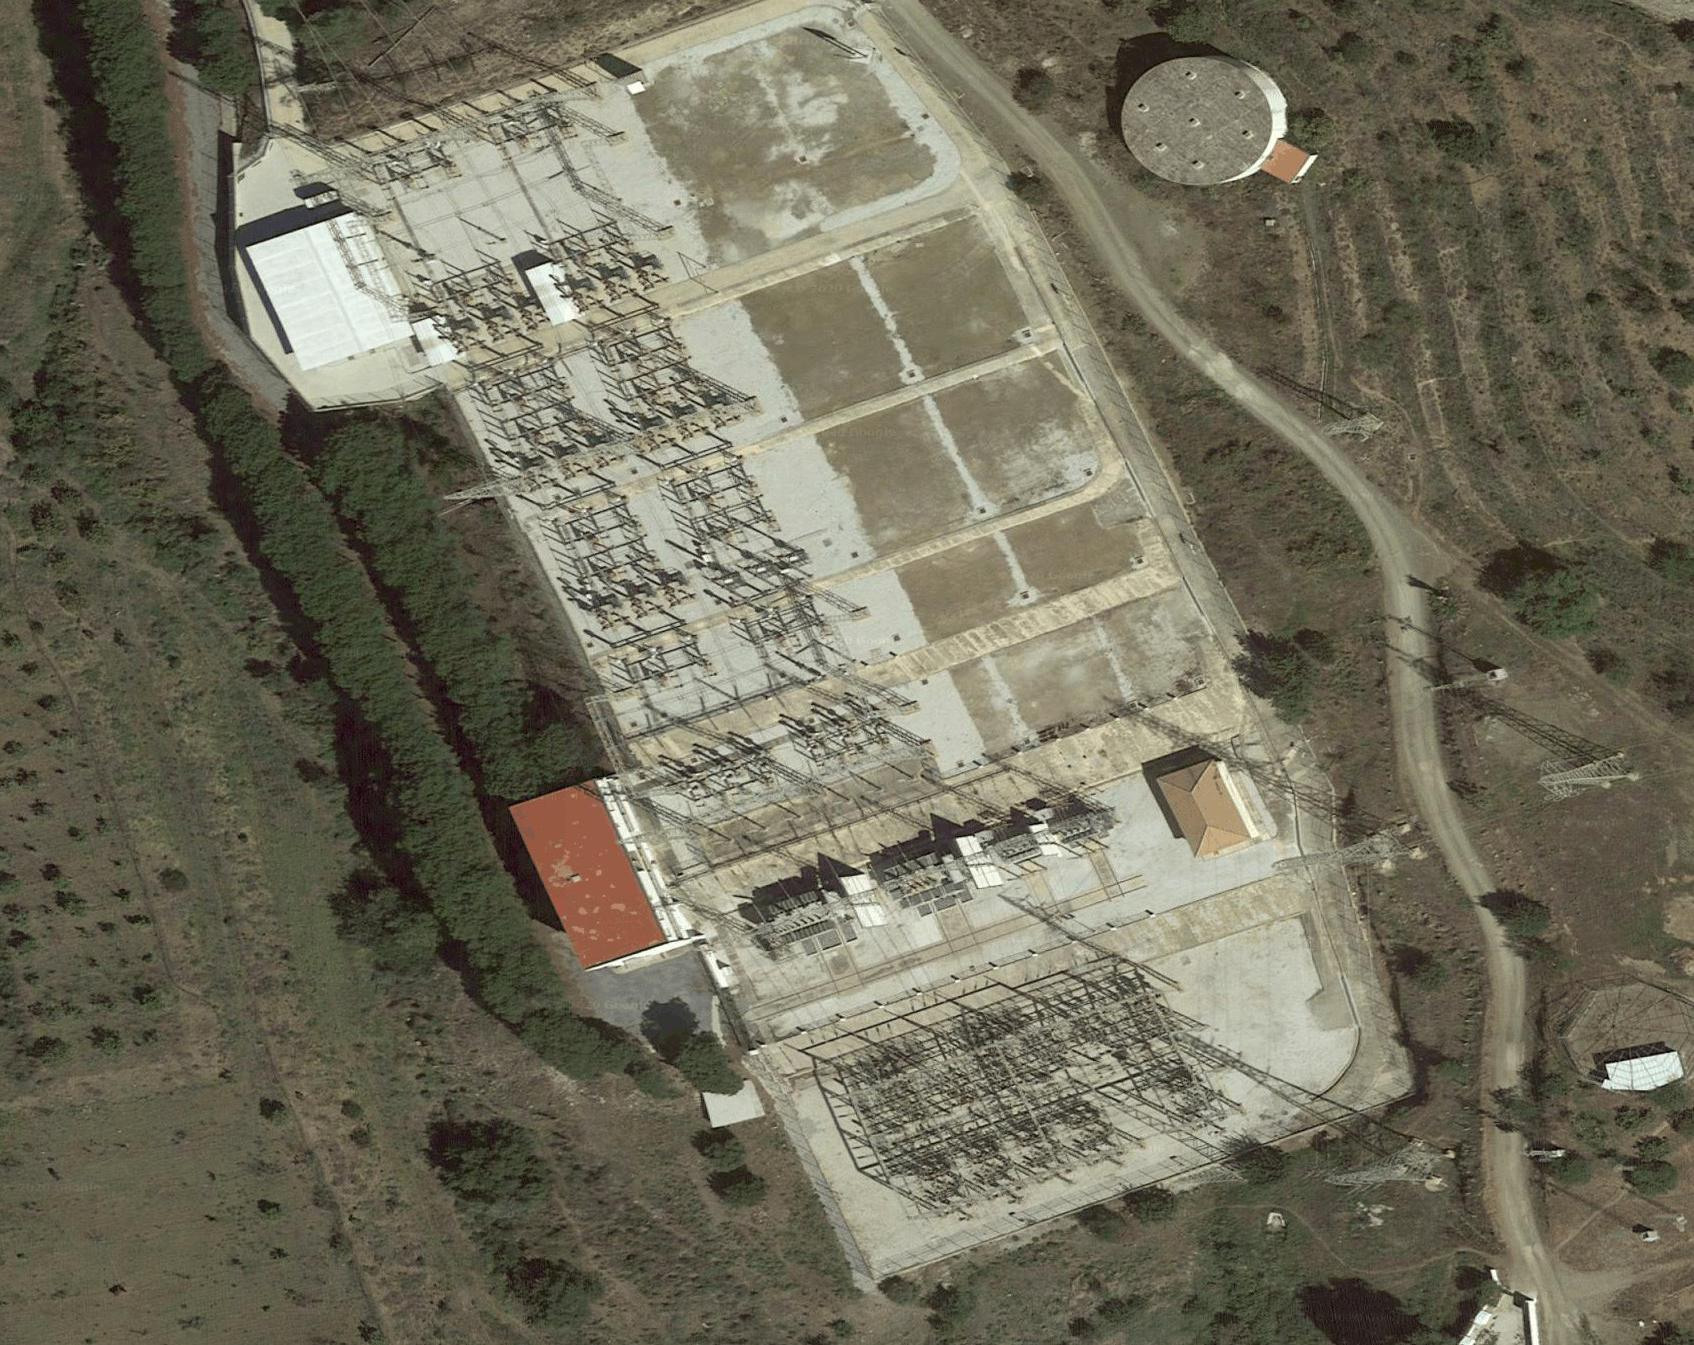substation: (318, 59, 1253, 1225)
